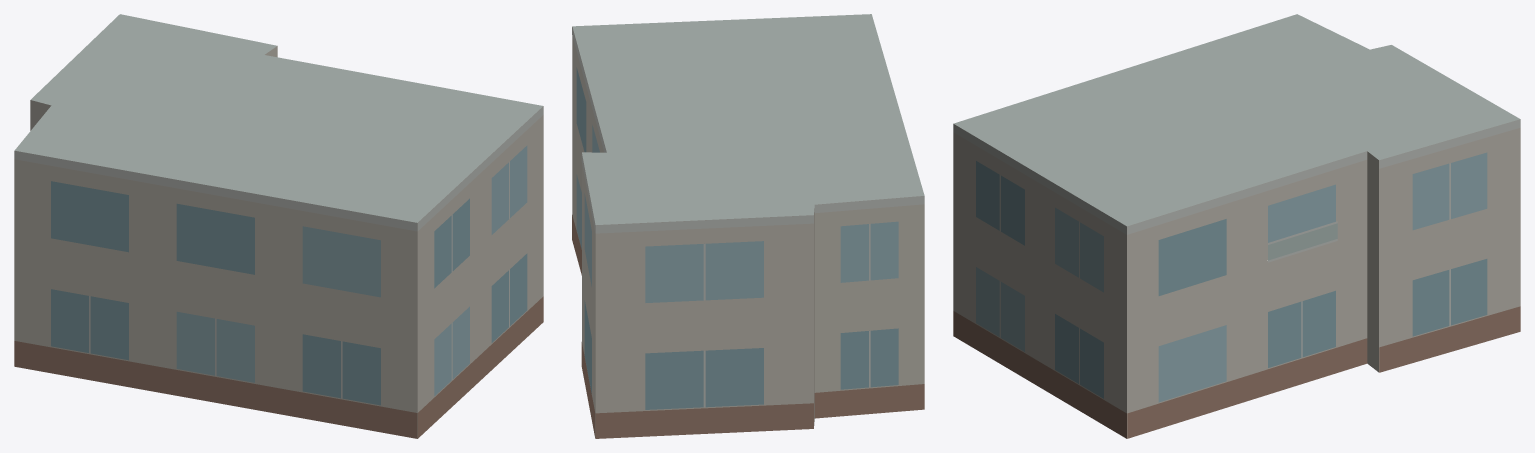
Rendered from survey-upis-32507712.glb.
The picture shows the model from 3 angles, left to right: view 1: azimuth 30°, elevation 25°; view 2: azimuth 150°, elevation 25°; view 3: azimuth 270°, elevation 25°; orthographic projection.
Parts seen in each view (by area): view 1: survey-upis-32507712.tmp; view 2: survey-upis-32507712.tmp; view 3: survey-upis-32507712.tmp.
Part boxes in pixels (x1=…): survey-upis-32507712.tmp: x1=14, y1=14, x2=543, y2=438; survey-upis-32507712.tmp: x1=572, y1=14, x2=924, y2=438; survey-upis-32507712.tmp: x1=953, y1=14, x2=1520, y2=438.
Size of the model in its own units: 13.09 by 6.1 by 14.77.
